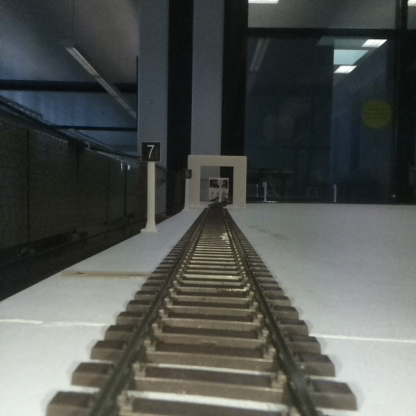black-info-6: (183, 168, 191, 210)
black-info-7: (141, 141, 160, 231)
